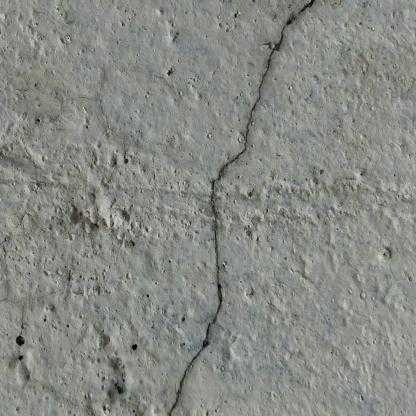crack: (168, 1, 315, 415)
